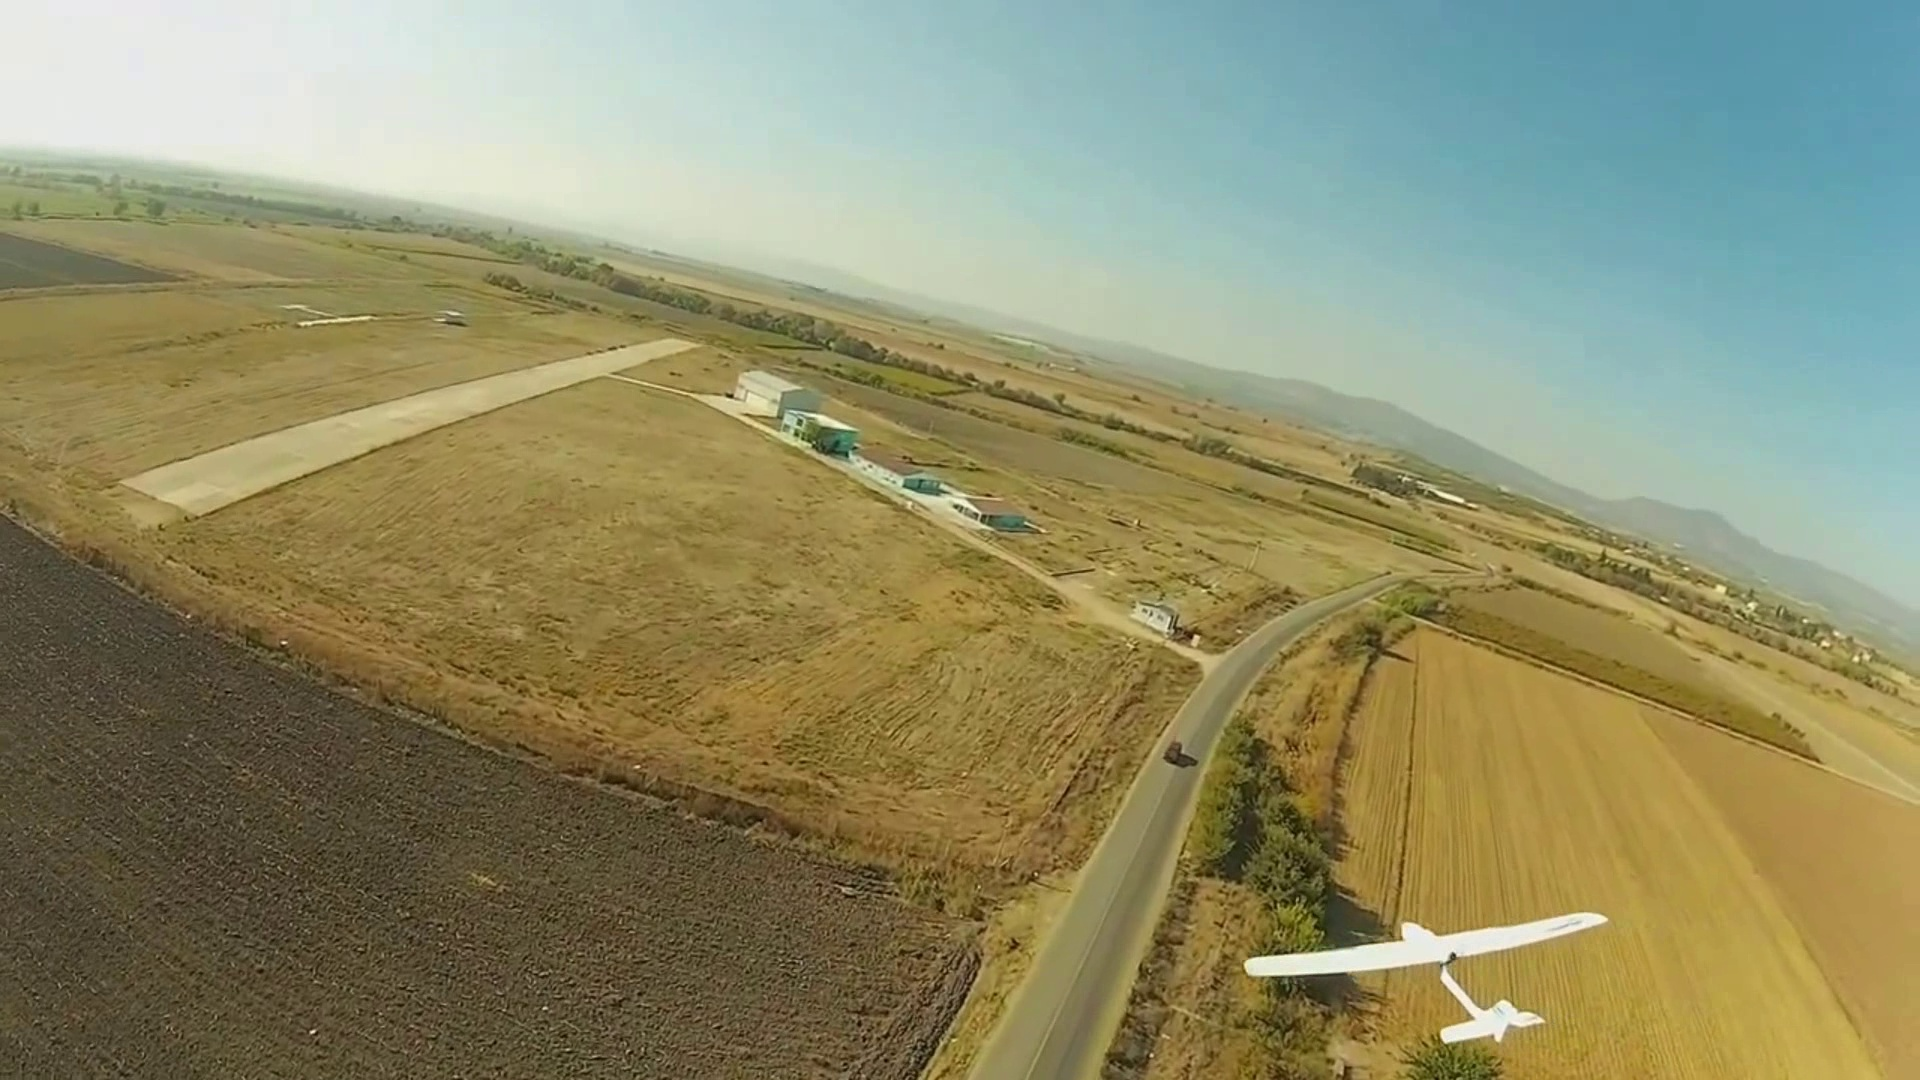airplane: (1245, 912, 1608, 1065)
